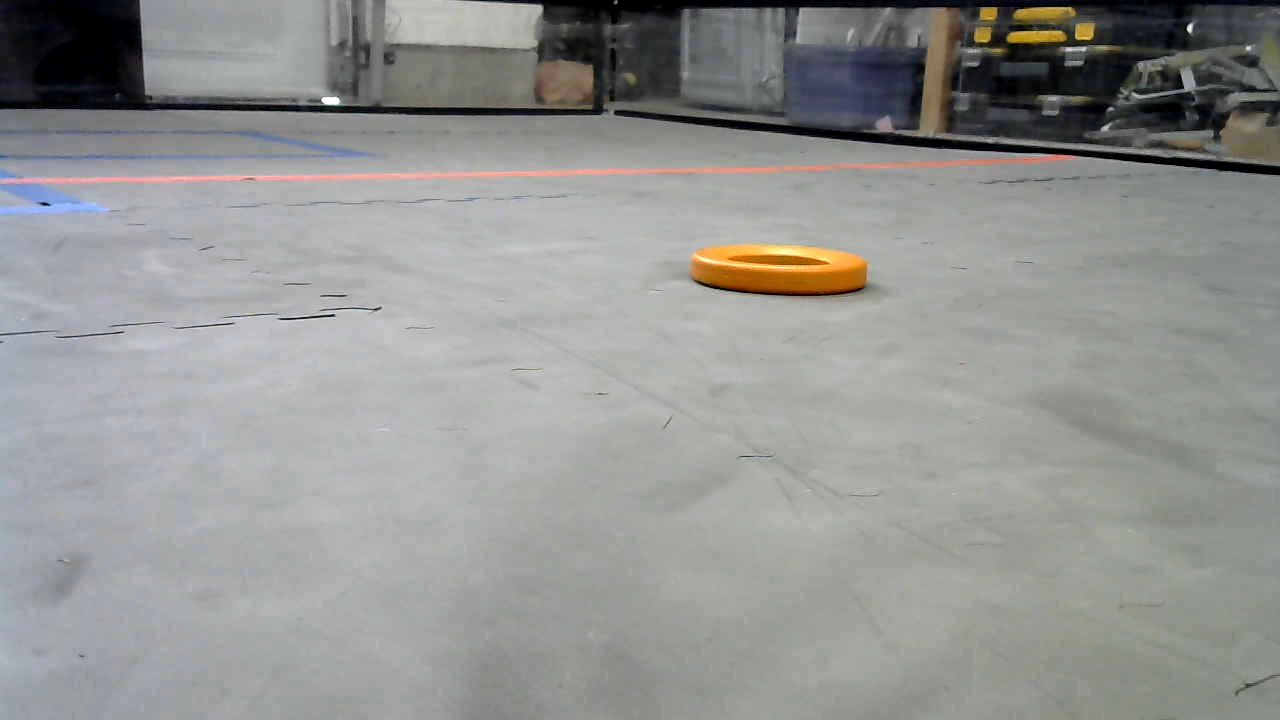OneStack: (690, 242, 868, 298)
